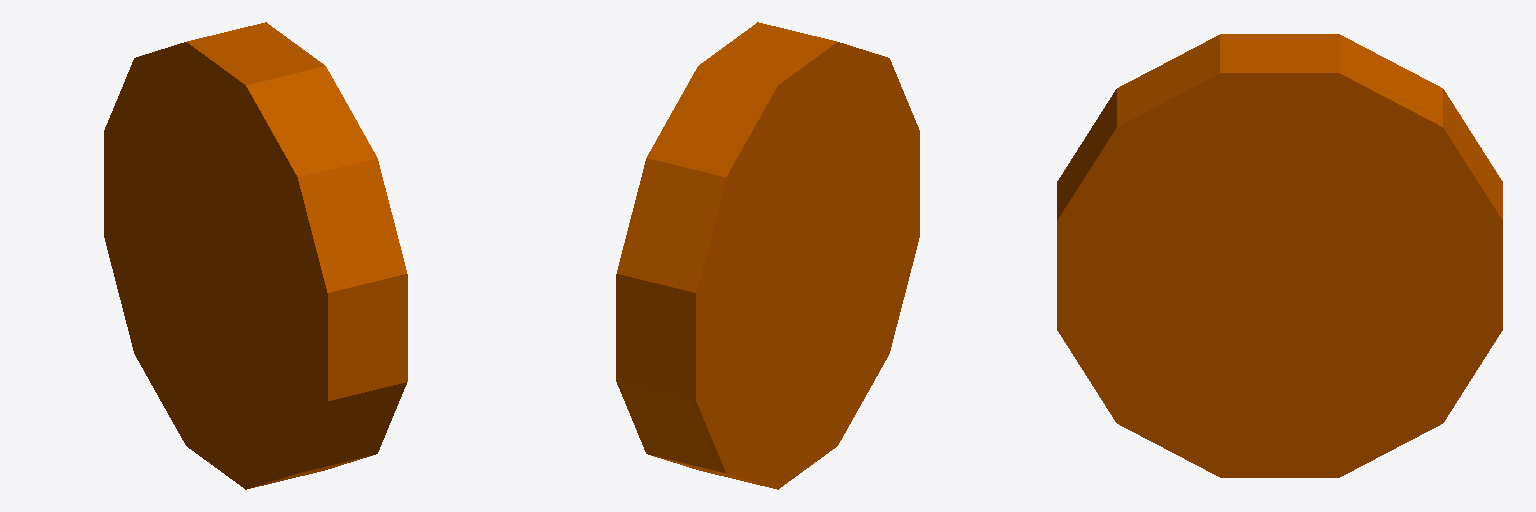
File: Coin2.obj
3 views of the same model, side by side, from view 1: azimuth 30°, elevation 25°; view 2: azimuth 150°, elevation 25°; view 3: azimuth 270°, elevation 25° (orthographic).
Visible parts, largest first — view 1: Mesh1 Mesh1_Mesh1_Mesh1_Mesh2_cylinder01_1_skp1B9_1_Model_Model_; view 2: Mesh1 Mesh1_Mesh1_Mesh1_Mesh2_cylinder01_1_skp1B9_1_Model_Model_; view 3: Mesh1 Mesh1_Mesh1_Mesh1_Mesh2_cylinder01_1_skp1B9_1_Model_Model_.
Part boxes in pixels (x1,y1,x2,y2): Mesh1 Mesh1_Mesh1_Mesh1_Mesh2_cylinder01_1_skp1B9_1_Model_Model_: (104,22,407,489); Mesh1 Mesh1_Mesh1_Mesh1_Mesh2_cylinder01_1_skp1B9_1_Model_Model_: (616,22,919,489); Mesh1 Mesh1_Mesh1_Mesh1_Mesh2_cylinder01_1_skp1B9_1_Model_Model_: (1057,34,1502,477).
Size of the model in its own units: 0.3 by 1.45 by 1.45.